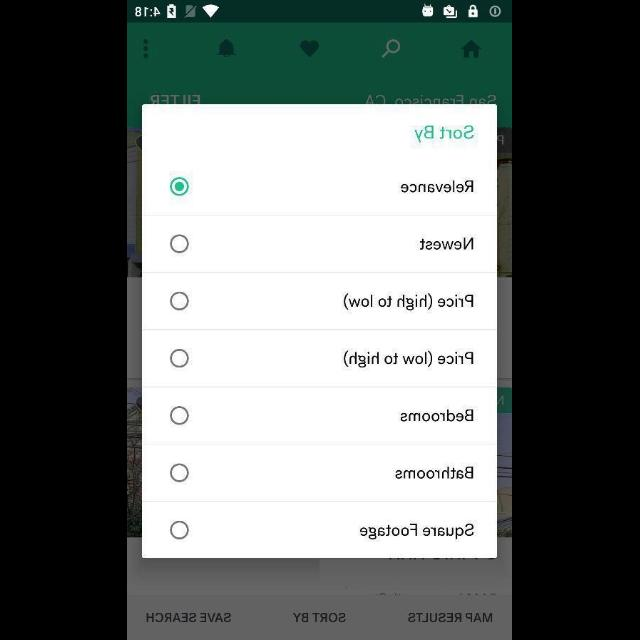checkbox: (170, 348, 190, 368), (170, 406, 190, 426), (170, 177, 190, 196), (170, 234, 190, 253), (170, 463, 190, 482), (170, 292, 190, 310), (170, 521, 190, 539)
icon: (382, 40, 402, 59), (462, 40, 482, 58), (300, 41, 320, 58), (218, 40, 236, 58), (144, 40, 150, 59)
panel: (143, 104, 497, 558)
text: (344, 292, 474, 312), (344, 349, 474, 368), (360, 524, 474, 540), (416, 125, 474, 143), (396, 466, 474, 479), (402, 180, 474, 193), (400, 410, 474, 422), (147, 613, 231, 623), (408, 614, 492, 622), (420, 238, 474, 250), (294, 614, 346, 622)
uppertaskbar: (128, 1, 512, 23)
